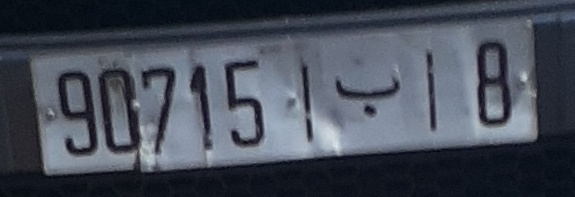0: (98, 65, 138, 159)
1: (181, 54, 215, 160)
5: (220, 50, 272, 151)
7: (138, 60, 182, 161)
8: (462, 34, 528, 140)
9: (48, 70, 103, 161)
b: (326, 59, 418, 131)
